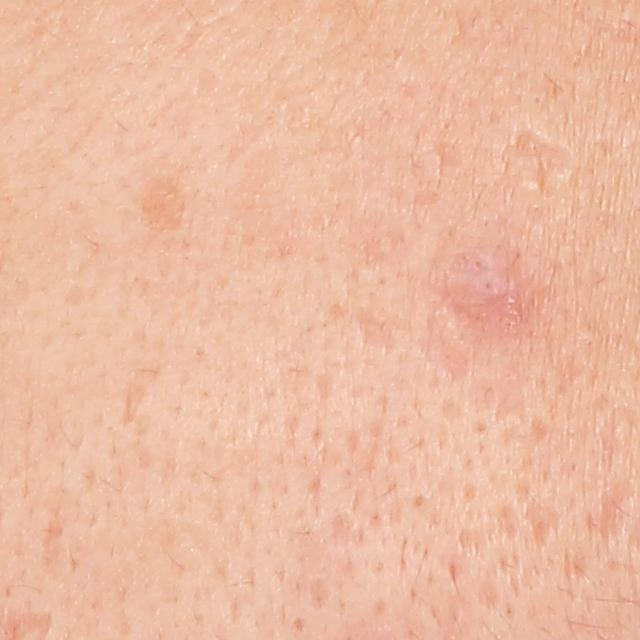atrophic_scar: (412, 317, 472, 386), (501, 131, 579, 180), (353, 299, 401, 354), (521, 500, 561, 551), (125, 376, 147, 430)
comedo: (519, 172, 549, 198)
papule: (448, 245, 529, 330)
